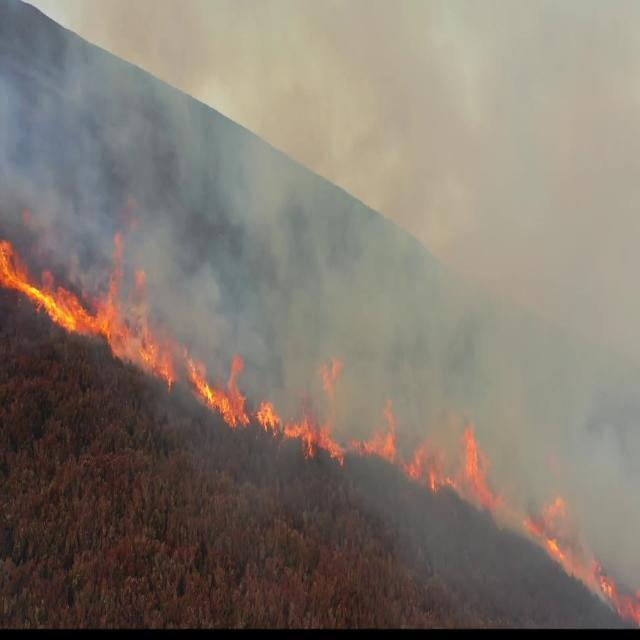Fire: (0, 238, 111, 341), (189, 350, 251, 432), (463, 425, 503, 523)
Smoke: (166, 66, 389, 341), (530, 259, 640, 473)
